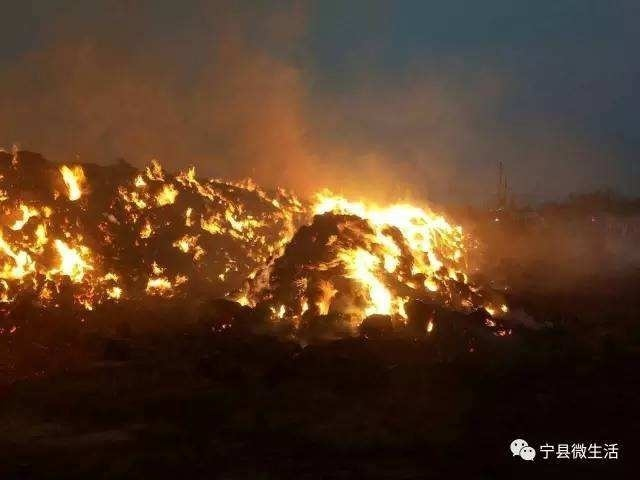fire: (7, 154, 517, 336)
